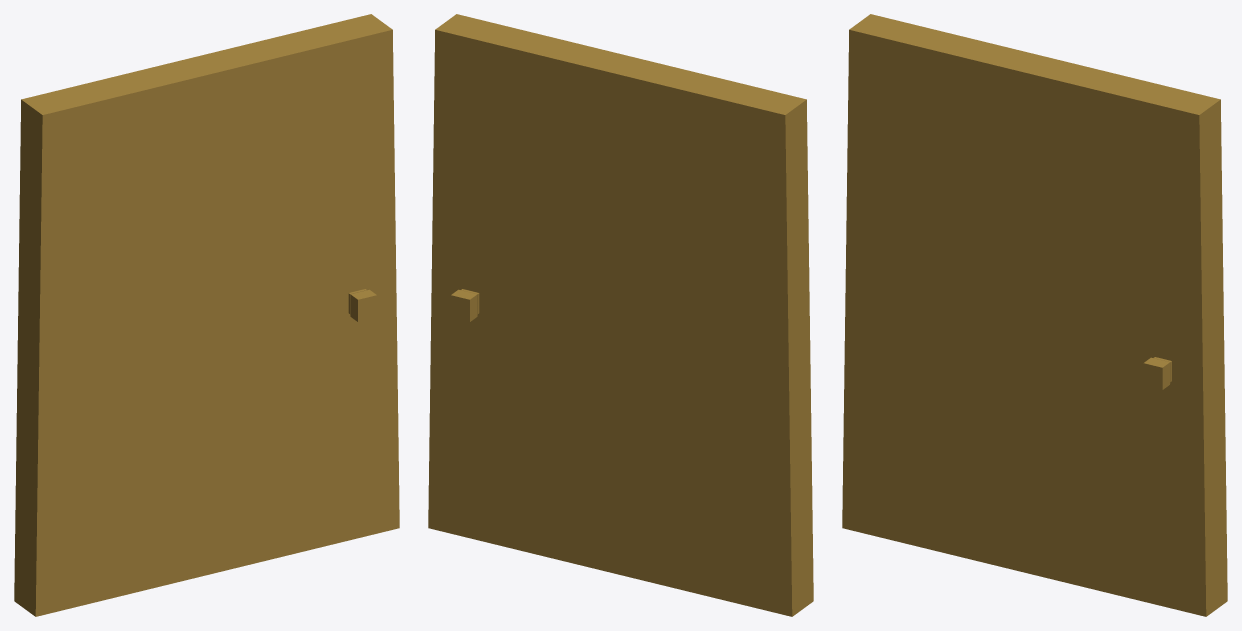
Rendered from Pintu.fbx.
3 renders of one model, left to right at view 1: azimuth 30°, elevation 25°; view 2: azimuth 150°, elevation 25°; view 3: azimuth 330°, elevation 25°, orthographic.
Parts seen in each view (by area): view 1: Cube.015, Cube.014; view 2: Cube.015, Cube.014; view 3: Cube.015, Cube.014.
Part boxes in pixels (left/top/right/bottom): Cube.015: left=59, top=59, right=376, bottom=610; Cube.014: left=14, top=14, right=399, bottom=616; Cube.015: left=451, top=59, right=768, bottom=610; Cube.014: left=428, top=14, right=813, bottom=616; Cube.015: left=865, top=59, right=1182, bottom=610; Cube.014: left=842, top=14, right=1227, bottom=616.
Size of the model in its own units: 160 by 211 by 32.45.
